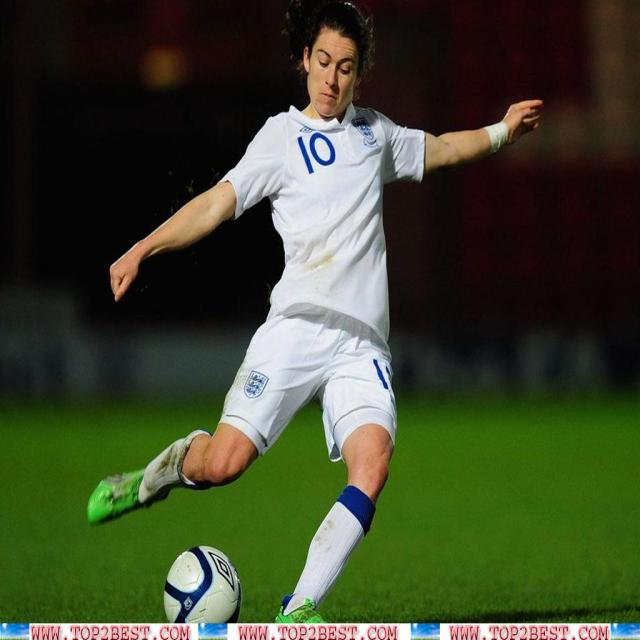Face: (303, 25, 375, 124)
